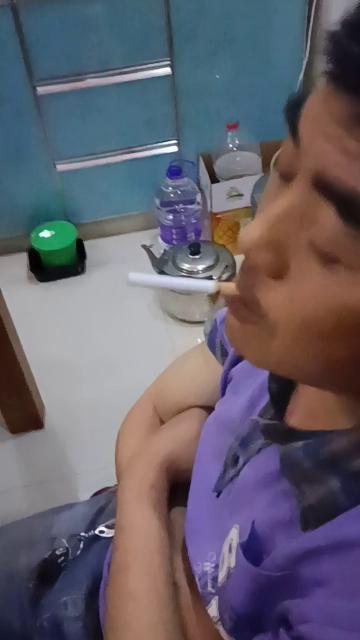Cigarette: (128, 272, 240, 298)
